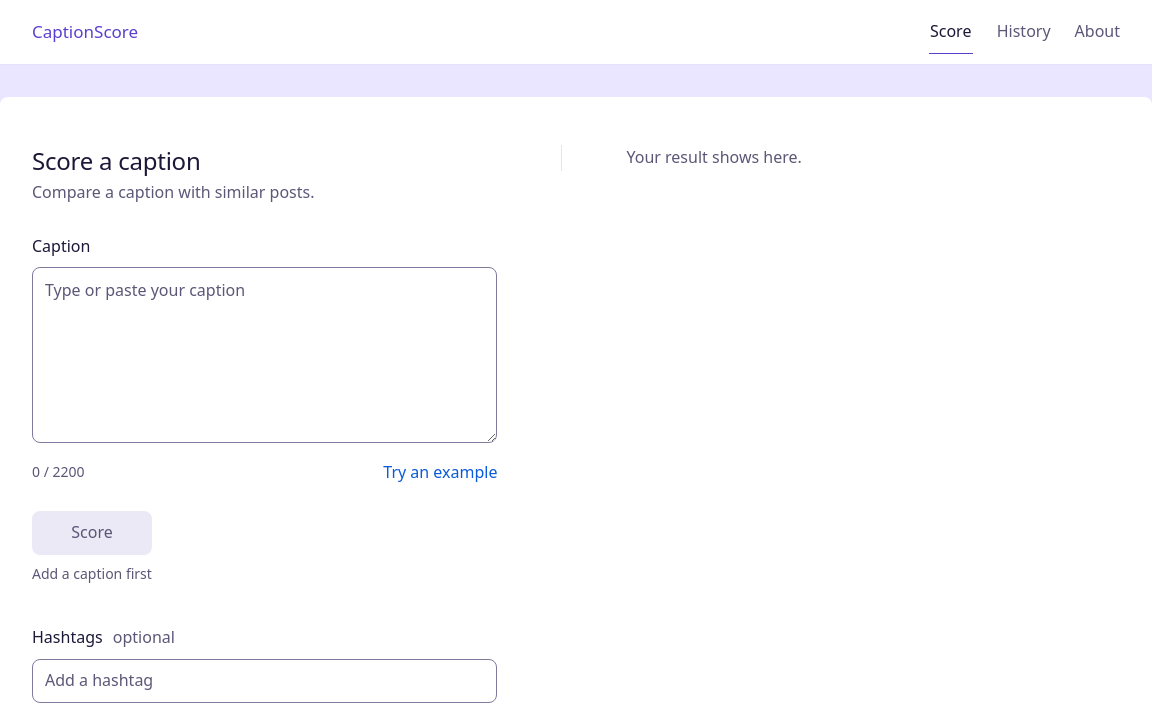
Scenario: Score page › says what to do when the model is down
Type "hello" into the text box labelled "Caption".
click(265, 355); type("hello")  # box [32,267,498,443]
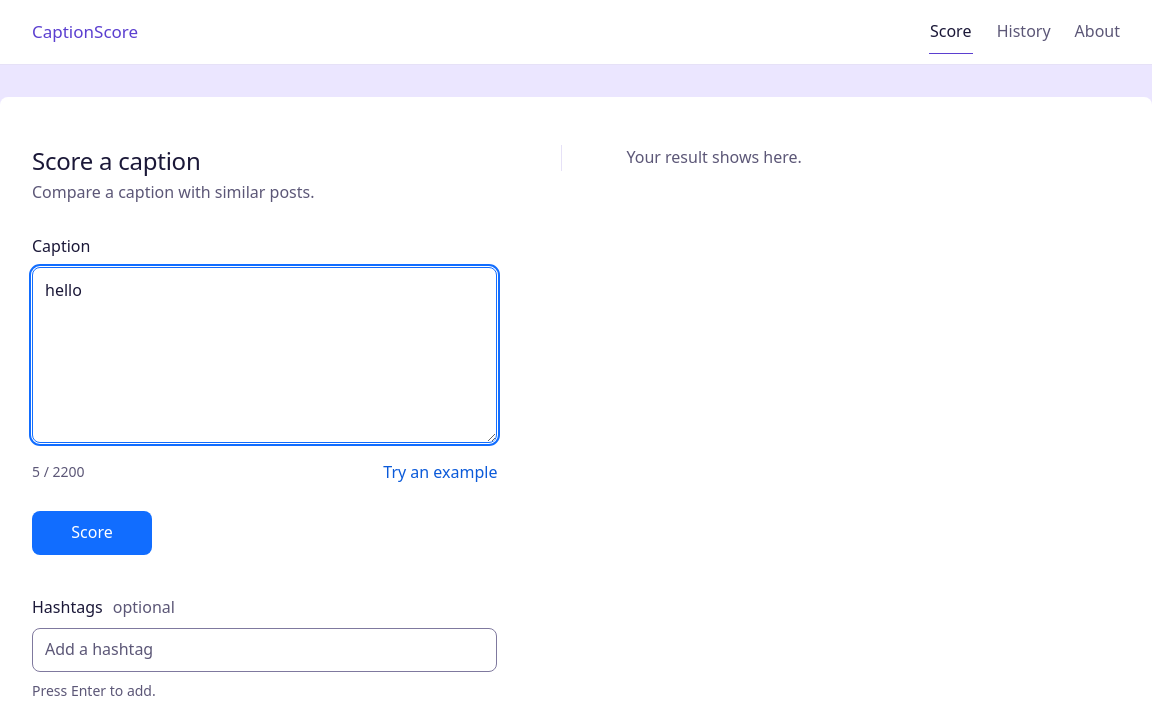
Click the button "Score".
click(92, 532)  # box [32,510,152,554]
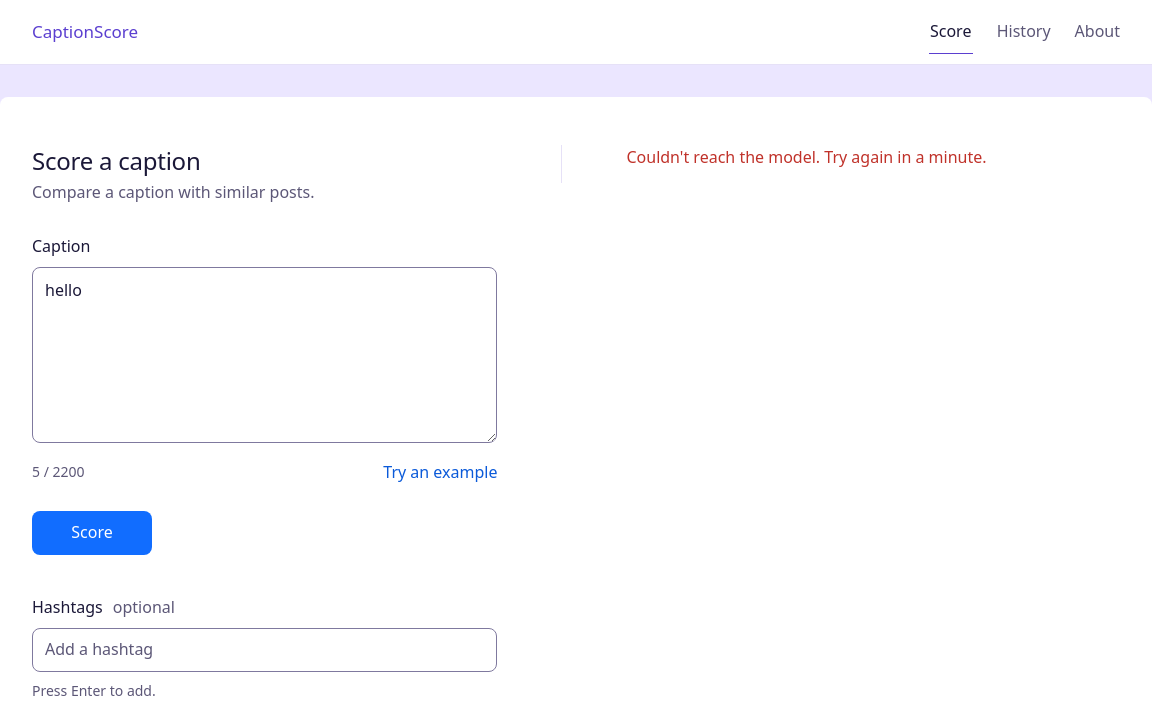
Expected: the message reads "Couldn't reach the model. Try again in a minute.", [626,146,987,168]
